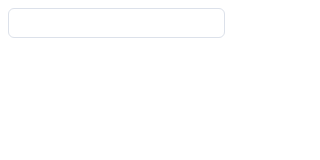
Test: AmountField › различает ноль и пустой ввод
Later steps or results of the test are not shown.
Type "0" into the field named "Сумма". click: (116, 23)
box: top-left (17, 8), bottom-right (216, 38)
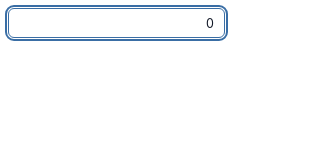
Press Tab
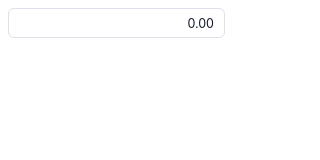
Now the field named "Сумма" holds "0.00", box top-left (17, 8), bottom-right (216, 38)
